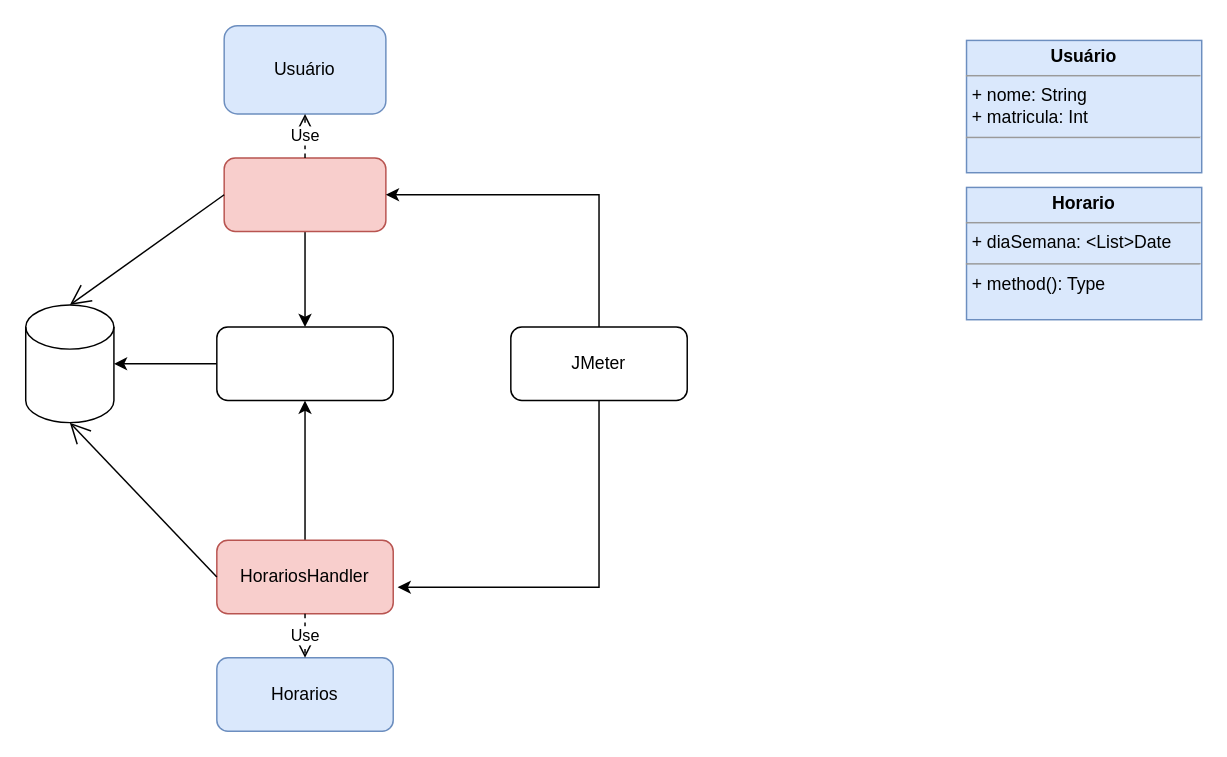
This 1227x757 diagram has some shape labels left out. The shapes that lost their labels are listed below. From the top down, each one's centre as x and y in pixels, then its label:
At point (304, 194): "UsuarioHandler".
At point (69, 363): "BD".
At point (304, 363): "Registro_Server".
